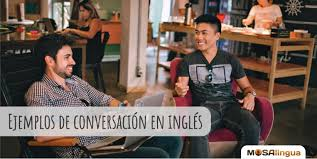person: (25, 33, 96, 129), (179, 15, 246, 92)
